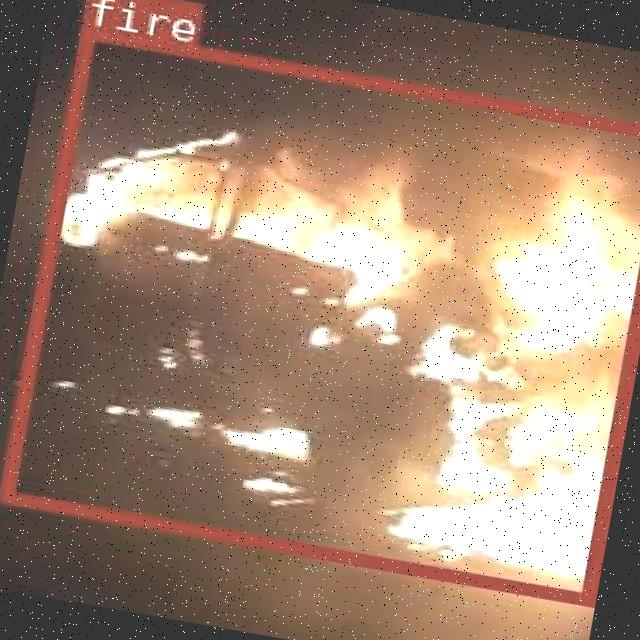fire: (0, 23, 640, 601)
